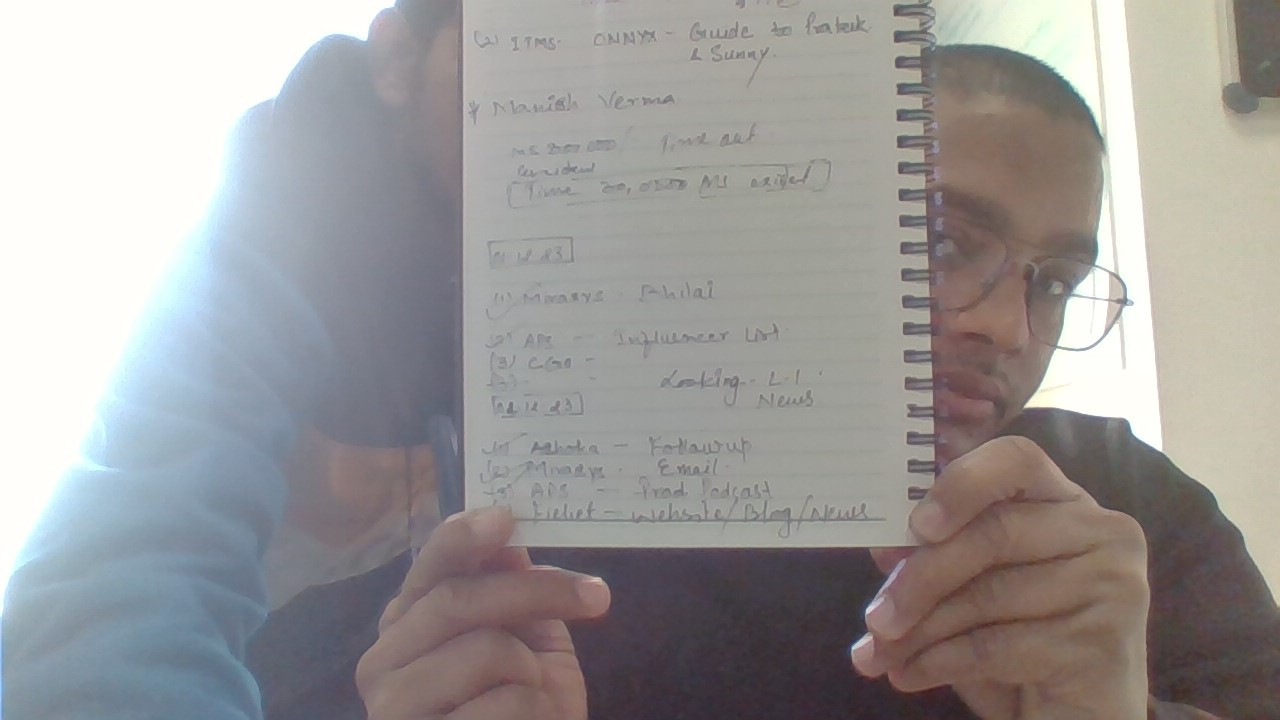partial: (451, 1, 960, 548)
